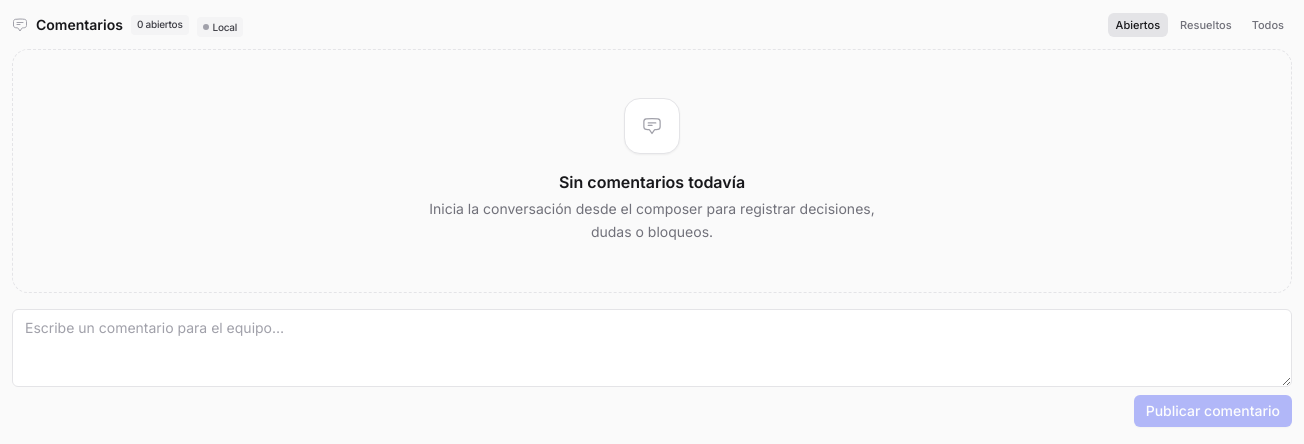
Test: CommentThread › publishes a new comment via the composer
Type "Bloqueo de seguridad detectado" into the text box named "Nuevo comentario" at coordinates (652, 348), box [12,308,1292,386]
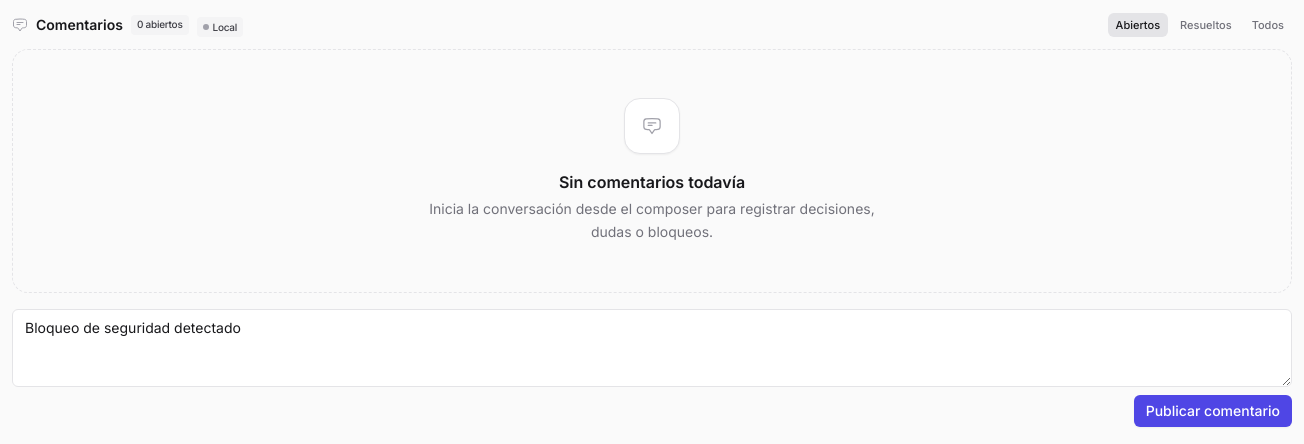
Click the button "Publicar comentario" at coordinates (1213, 410), box [1134,394,1292,426]
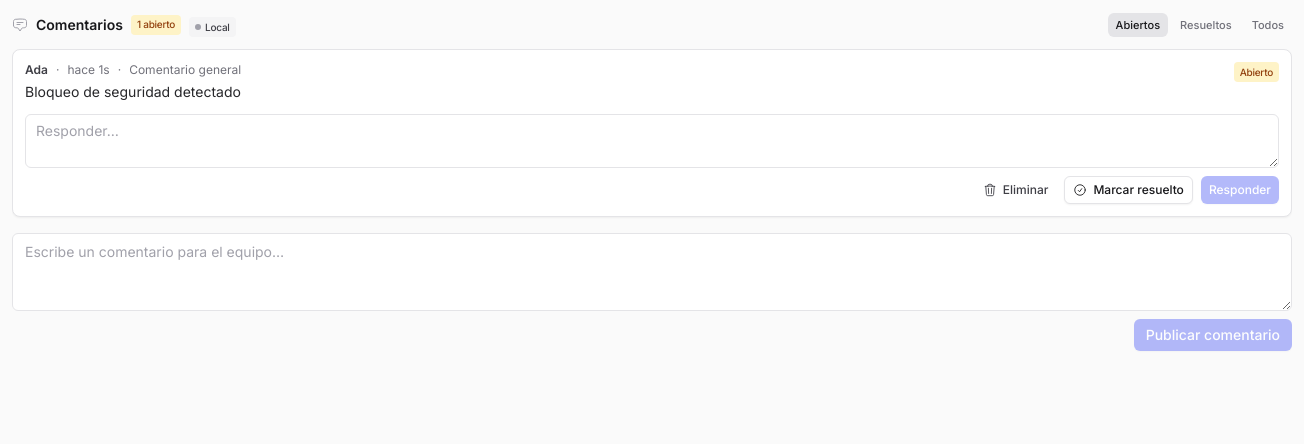
Now the text "Bloqueo de seguridad detectado" is shown, box [25,82,241,102]
